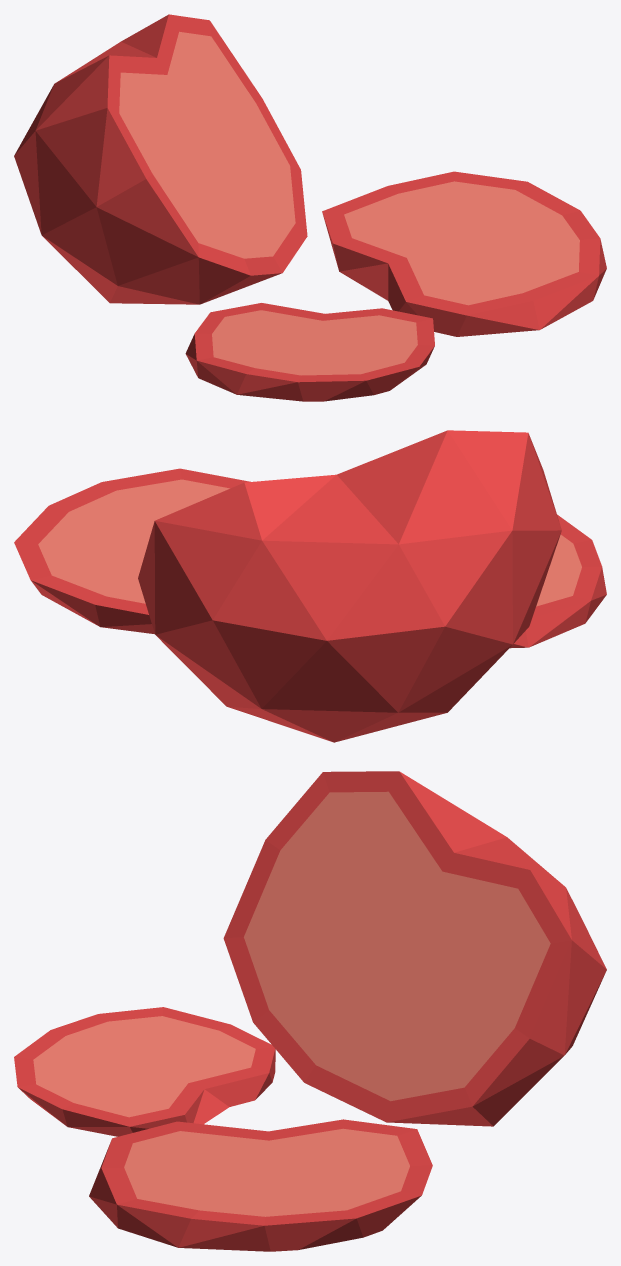
The model's file is SM_Tomato_Slicing.fbx.
3 renders of one model, top to bottom at view 1: azimuth 30°, elevation 25°; view 2: azimuth 150°, elevation 25°; view 3: azimuth 270°, elevation 25°, orthographic. The views are drawn at different scales.
Parts seen in each view (by area): view 1: half sliced tomato; view 2: half sliced tomato; view 3: half sliced tomato.
Boxes of the visible parts, <box> form: half sliced tomato: <box>14,14,606,401</box>; half sliced tomato: <box>14,430,606,742</box>; half sliced tomato: <box>14,771,606,1251</box>.
Size of the model in its own units: 59.86 by 31.56 by 58.43.
